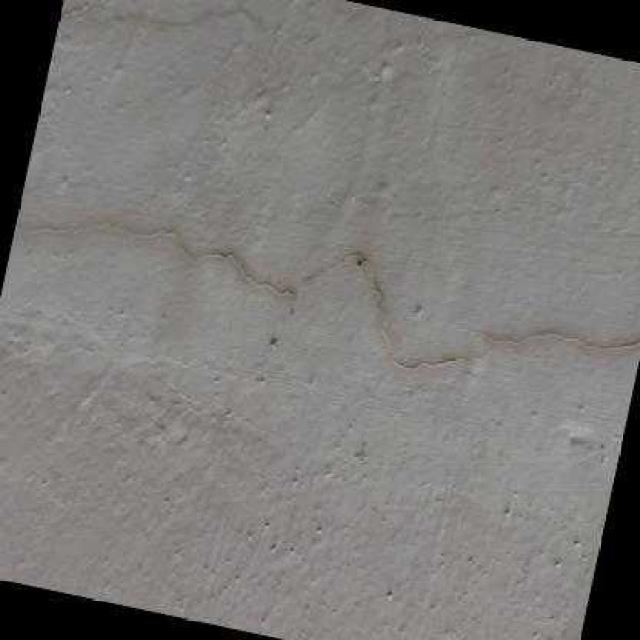D00: (11, 213, 278, 298), (303, 248, 453, 373), (486, 324, 640, 353), (55, 0, 79, 26)
